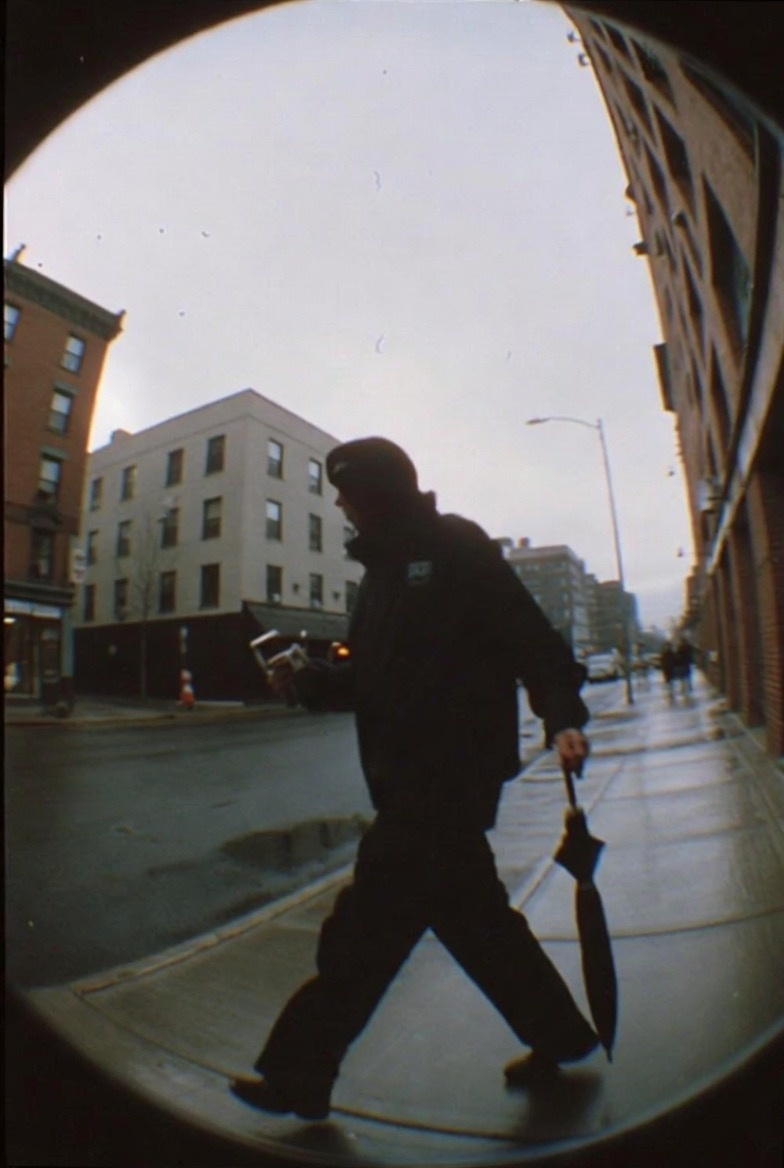person: (283, 429, 529, 1116)
umbrella: (554, 737, 650, 1066)
